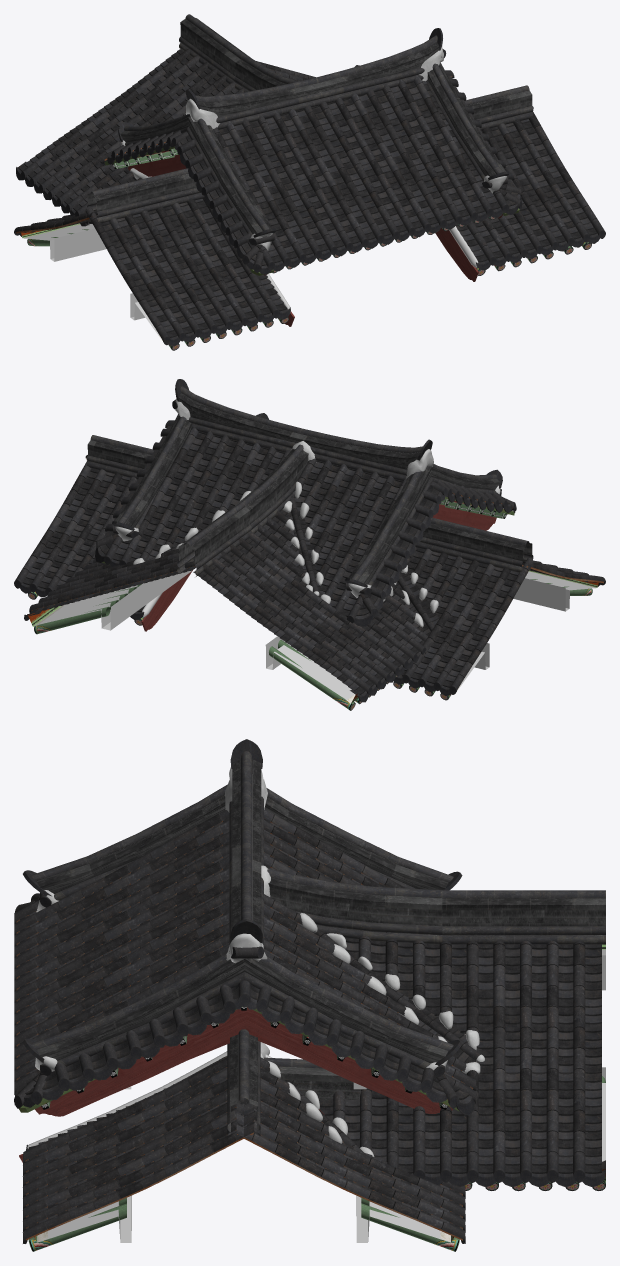
The model's file is SM_Giwa09A.fbx.
3 renders of one model, top to bottom at view 1: azimuth 30°, elevation 25°; view 2: azimuth 150°, elevation 25°; view 3: azimuth 270°, elevation 25°, orthographic. The views are drawn at different scales.
Visible parts, largest first — view 1: SM_Giwa09A; view 2: SM_Giwa09A; view 3: SM_Giwa09A.
Part boxes in pixels (x1,y1,x2,y2): SM_Giwa09A: [14, 14, 605, 350]; SM_Giwa09A: [14, 379, 605, 710]; SM_Giwa09A: [14, 739, 605, 1251].
Bounding box in the file's own units: 870 × 682 × 360.
